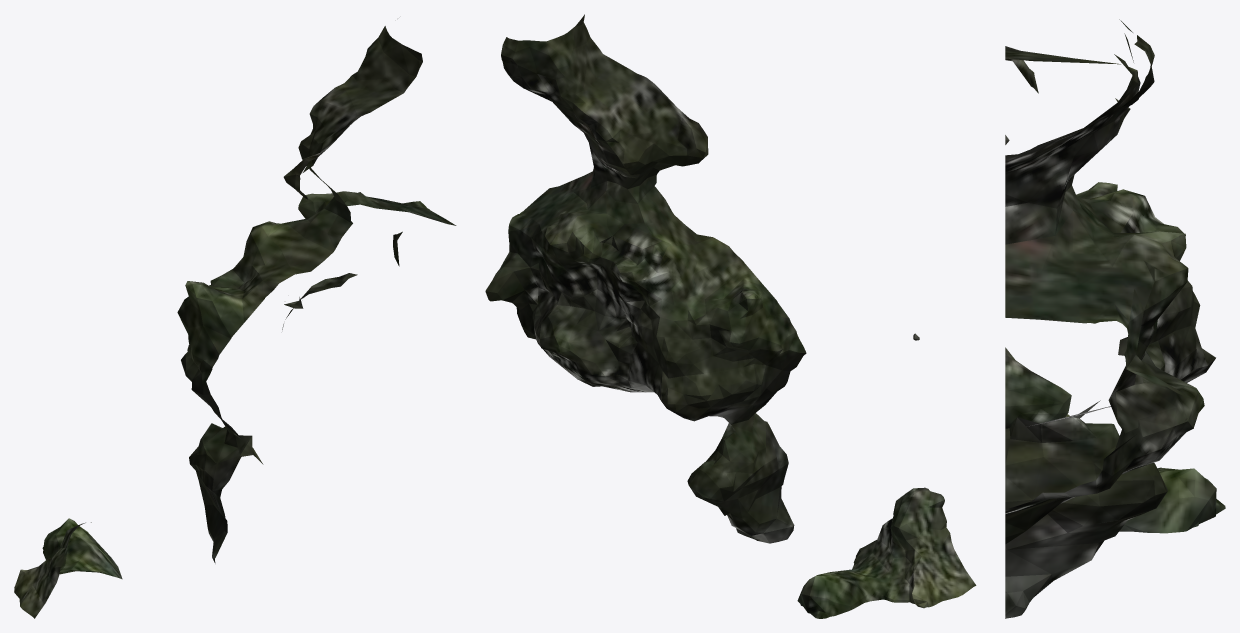
3 views of the same model, side by side, from view 1: azimuth 30°, elevation 25°; view 2: azimuth 150°, elevation 25°; view 3: azimuth 270°, elevation 25° (orthographic). The views are drawn at different scales.
Size of the model in its own units: 3.14 by 3.35 by 0.9381.
Materials: 2 (2 with a texture image).
